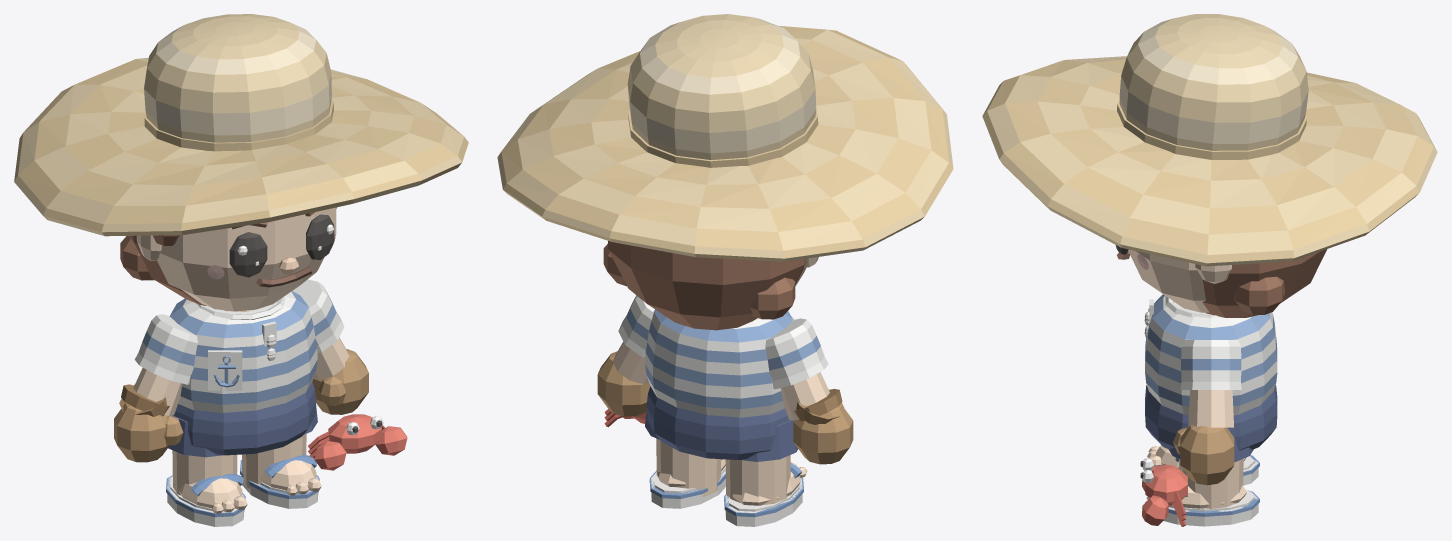
Rendered from pescador_lowpoly.glb.
The picture shows the model from 3 angles, left to right: view 1: azimuth 30°, elevation 25°; view 2: azimuth 150°, elevation 25°; view 3: azimuth 270°, elevation 25°; orthographic projection.
Visible parts, largest first — view 1: ala_e0ba79, ala_cfa35f, copa_e0ba79, cabeza, copa_eed3a0, camisa_4a6ca8, camisa_f3f3ef, shorts, guante1, manga1_f3f3ef, cyl, guante-1 (+22 smaller); view 2: ala_cfa35f, ala_e0ba79, copa_e0ba79, pelo, copa_eed3a0, camisa_4a6ca8, camisa_f3f3ef, shorts, pierna1, guante1, manga1_f3f3ef, pierna-1 (+13 smaller); view 3: ala_cfa35f, ala_e0ba79, copa_e0ba79, copa_eed3a0, camisa_4a6ca8, camisa_f3f3ef, pelo, shorts, guante-1, cabeza, manga-1_f3f3ef, cyl (+9 smaller).
Part boxes in pixels (x1,y1,x2,y2): ala_e0ba79: [14, 57, 464, 235]; ala_cfa35f: [14, 59, 468, 236]; copa_e0ba79: [144, 14, 331, 142]; cabeza: [157, 207, 336, 311]; copa_eed3a0: [144, 23, 331, 135]; camisa_4a6ca8: [170, 291, 317, 404]; camisa_f3f3ef: [170, 292, 317, 413]; shorts: [173, 382, 316, 455]; guante1: [114, 403, 171, 462]; manga1_f3f3ef: [134, 315, 197, 384]; cyl: [144, 100, 333, 151]; guante-1: [312, 349, 368, 414]; ala_cfa35f: [501, 25, 953, 261]; ala_e0ba79: [497, 29, 953, 261]; copa_e0ba79: [627, 14, 815, 159]; pelo: [608, 241, 806, 330]; copa_eed3a0: [627, 17, 816, 153]; camisa_4a6ca8: [645, 309, 792, 409]; camisa_f3f3ef: [645, 312, 793, 417]; shorts: [646, 386, 789, 459]; pierna1: [725, 455, 790, 504]; guante1: [793, 404, 853, 464]; manga1_f3f3ef: [765, 319, 828, 389]; pierna-1: [656, 438, 720, 496]; ala_cfa35f: [982, 59, 1436, 266]; ala_e0ba79: [983, 56, 1437, 266]; copa_e0ba79: [1119, 14, 1308, 150]; copa_eed3a0: [1119, 18, 1308, 143]; camisa_4a6ca8: [1145, 294, 1277, 406]; camisa_f3f3ef: [1145, 296, 1277, 415]; pelo: [1202, 249, 1327, 317]; shorts: [1145, 385, 1277, 450]; guante-1: [1180, 425, 1234, 485]; cabeza: [1128, 249, 1209, 312]; manga-1_f3f3ef: [1180, 340, 1241, 389]; cyl: [1117, 100, 1306, 159].
Size of the model in its own units: 96.6 by 108 by 96.23.
